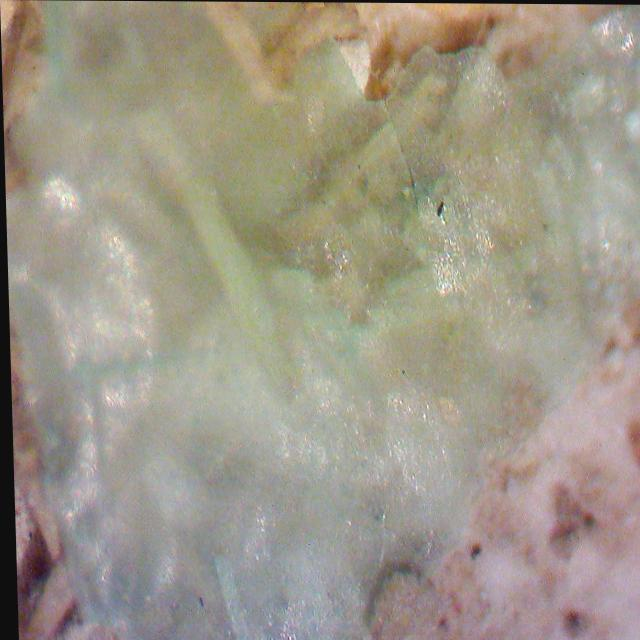microplastic: (4, 1, 640, 640)
